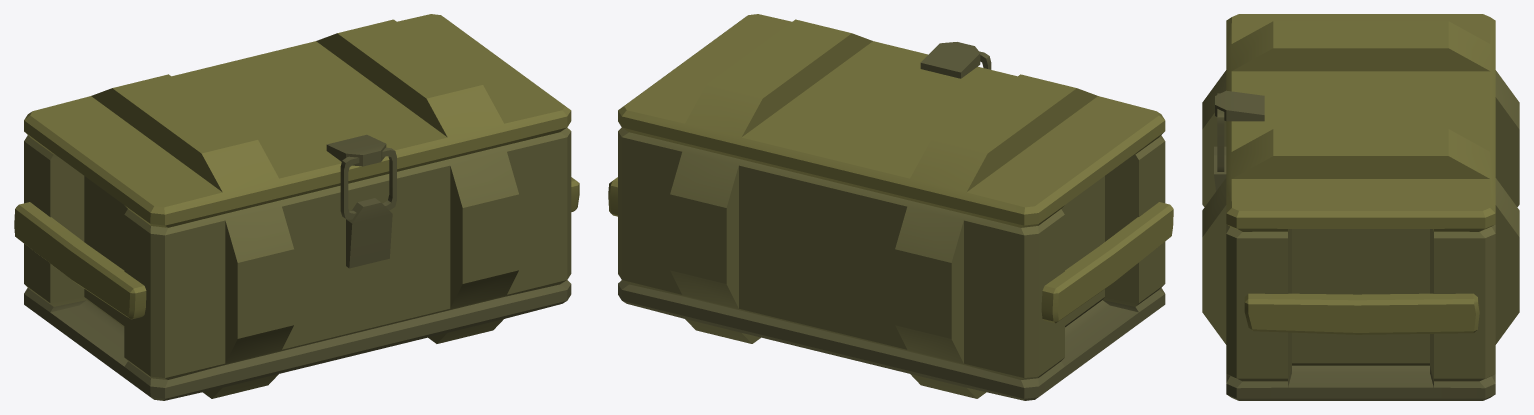
File: Ammo_box_01.fbx
3 renders of one model, left to right at view 1: azimuth 30°, elevation 25°; view 2: azimuth 150°, elevation 25°; view 3: azimuth 270°, elevation 25°, orthographic.
Parts seen in each view (by area): view 1: Ammo_box_01; view 2: Ammo_box_01; view 3: Ammo_box_01.
Part boxes in pixels (left/top/right/bottom): Ammo_box_01: left=14, top=14, right=579, bottom=400; Ammo_box_01: left=608, top=14, right=1173, bottom=400; Ammo_box_01: left=1202, top=14, right=1519, bottom=400.
Size of the model in its own units: 26.1 by 13.2 by 16.25.
